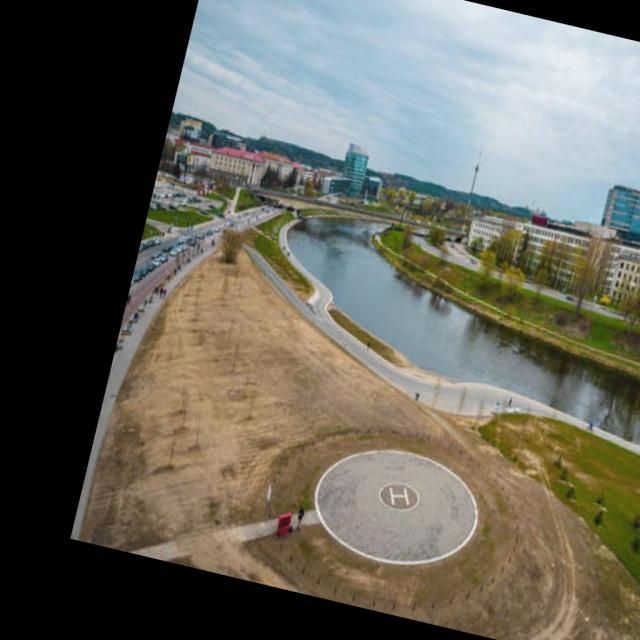helipad: (376, 479, 419, 512)
